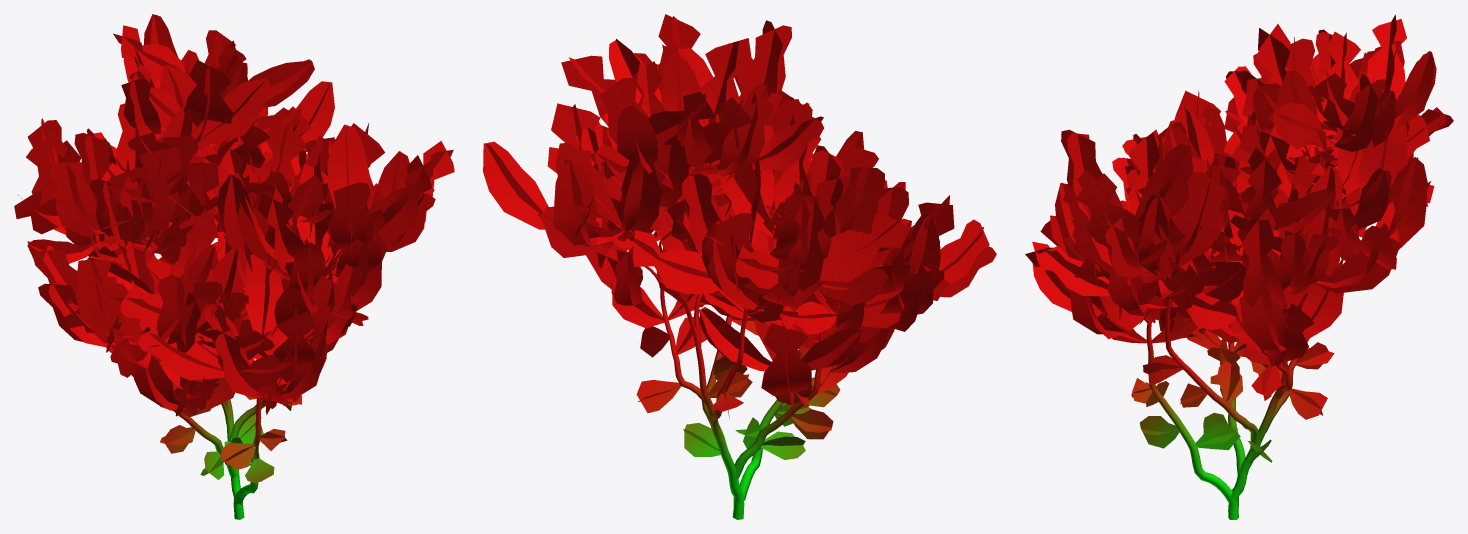
Rendered from European Spindle_LOD3_Var16.fbx.
The picture shows the model from 3 angles, left to right: view 1: azimuth 30°, elevation 25°; view 2: azimuth 150°, elevation 25°; view 3: azimuth 270°, elevation 25°; orthographic projection. The views are drawn at different scales.
Visible parts, largest first — view 1: _jdo8_Var16_LOD3; view 2: _jdo8_Var16_LOD3; view 3: _jdo8_Var16_LOD3.
Part boxes in pixels (x1=…): _jdo8_Var16_LOD3: x1=14, y1=14, x2=454, y2=519; _jdo8_Var16_LOD3: x1=483, y1=14, x2=996, y2=519; _jdo8_Var16_LOD3: x1=1025, y1=14, x2=1453, y2=519.
Bounding box in the file's own units: 229 × 260 × 209.
